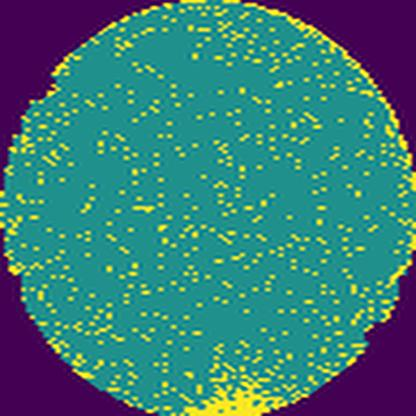Edge-Loc: (168, 378, 297, 416)
